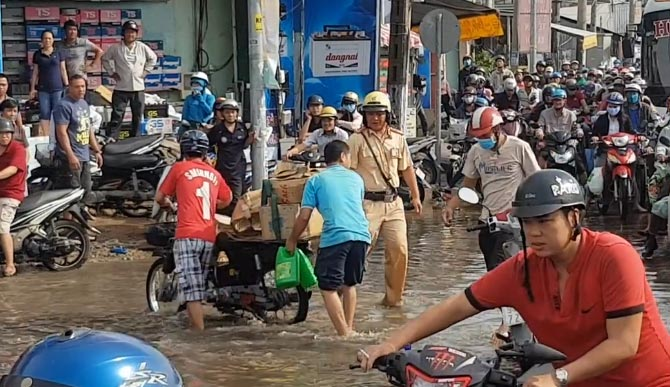police: (341, 90, 429, 306)
